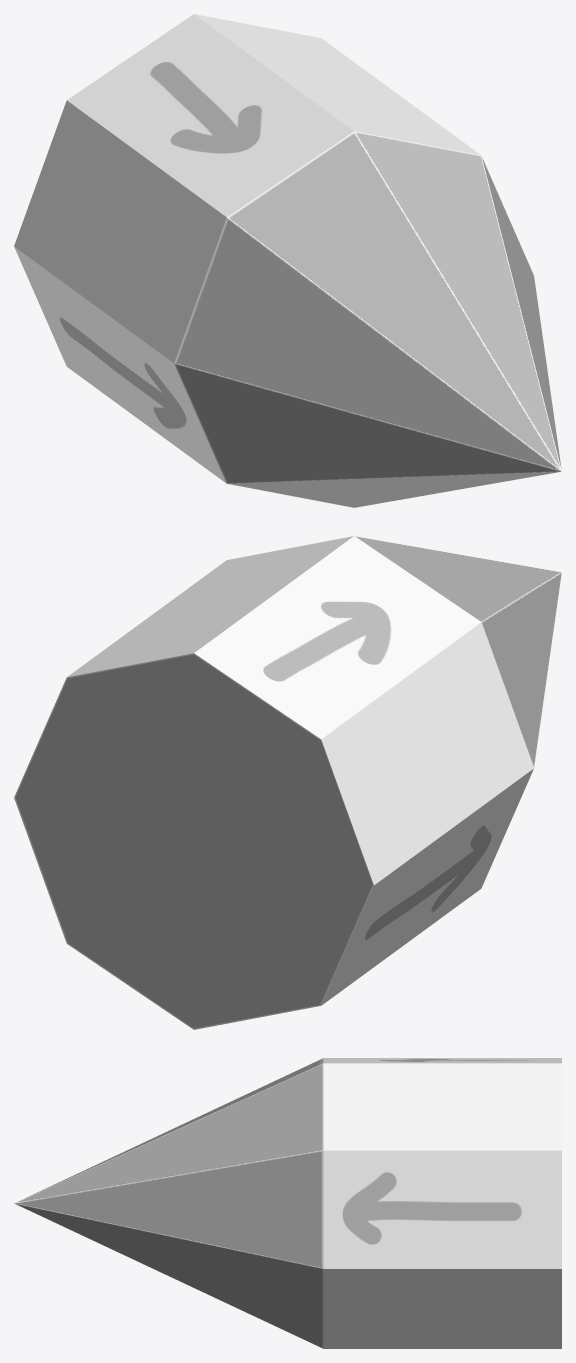
The model's file is Shot.obj.
3 views of the same model, one above another, from view 1: azimuth 30°, elevation 25°; view 2: azimuth 150°, elevation 25°; view 3: azimuth 270°, elevation 25° (orthographic). The views are drawn at different scales.
Visible parts, largest first — view 1: 円錐; view 2: 円錐; view 3: 円錐.
Part boxes in pixels (box(x1,y1,x2,y2)): 円錐: box(14, 14, 561, 507); 円錐: box(14, 536, 561, 1029); 円錐: box(14, 1058, 561, 1348).
Bounding box in the file's own units: 0.5649 × 0.5649 × 1.
Materials: 1 (1 with a texture image).
